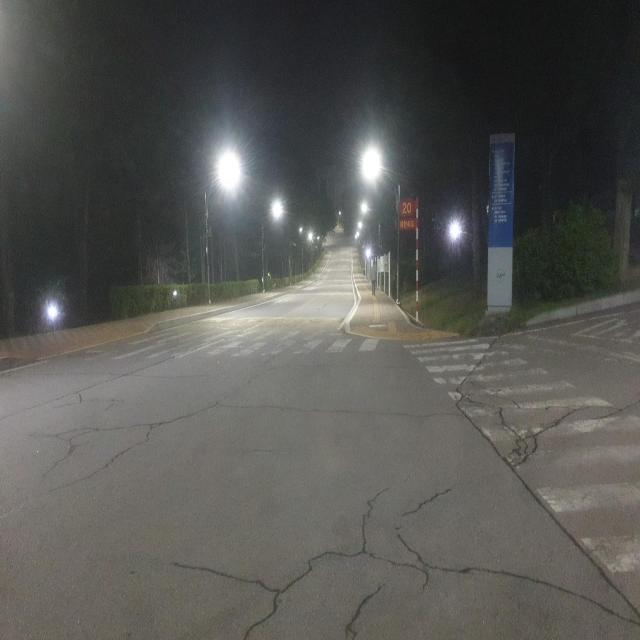횡단보도: (401, 339, 640, 577), (91, 324, 394, 366)
